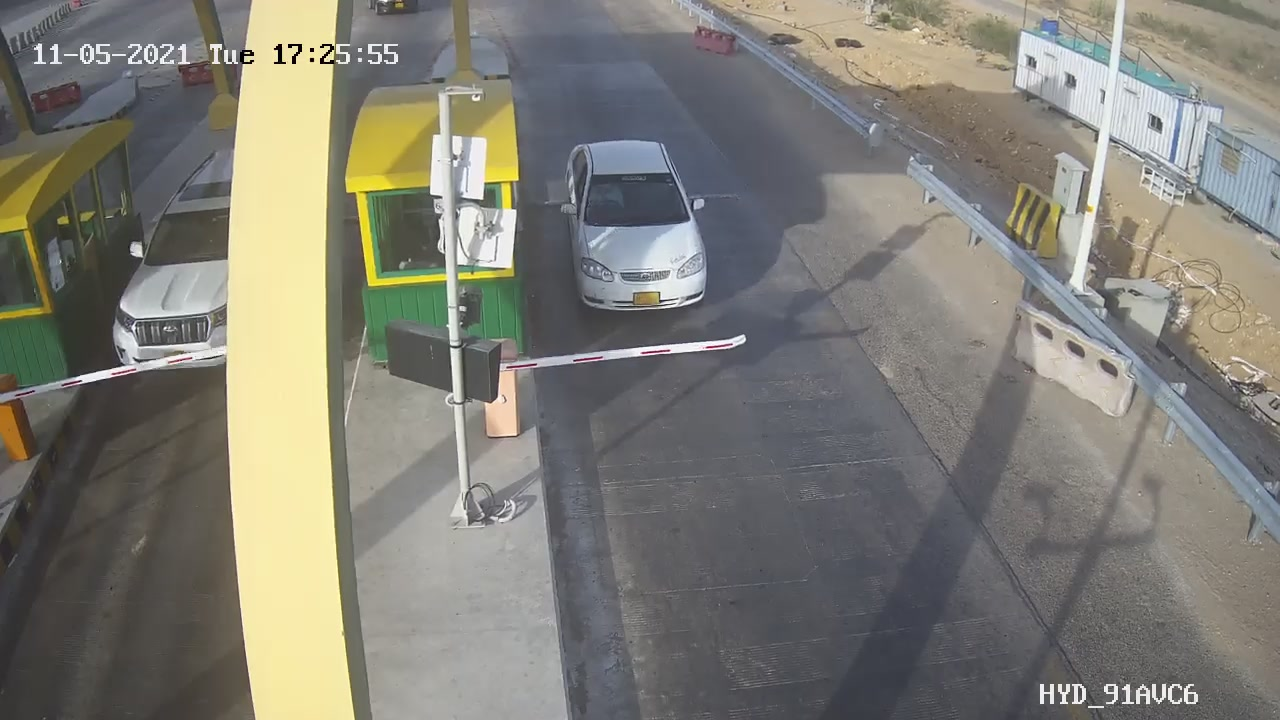F1: (544, 127, 731, 331)
